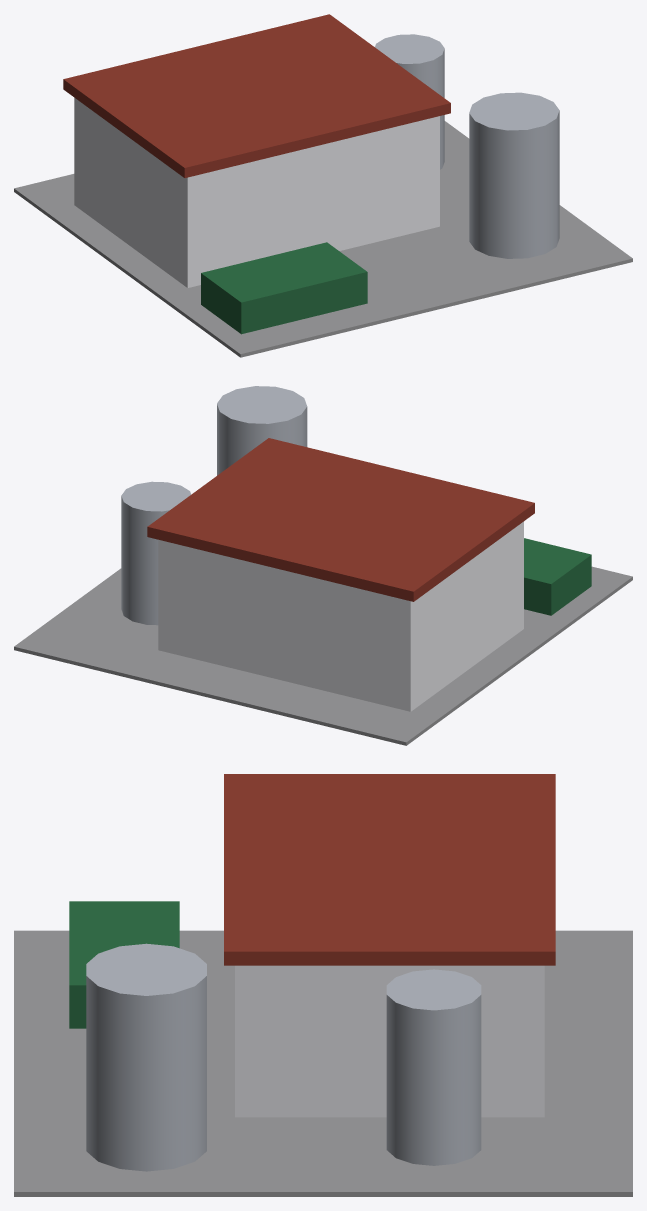
The model's file is food_plant.glb.
The picture shows the model from 3 angles, top to bottom: view 1: azimuth 30°, elevation 25°; view 2: azimuth 150°, elevation 25°; view 3: azimuth 270°, elevation 25°; orthographic projection. The views are drawn at different scales.
Visible parts, largest first — view 1: Hall, Roof, Pad, Tank1, Dock, Tank2; view 2: Hall, Roof, Pad, Tank2, Tank1, Dock; view 3: Pad, Roof, Hall, Tank1, Tank2, Dock.
Part boxes in pixels (x1=…): Hall: x1=74, y1=98, x2=439, y2=287; Roof: x1=63, y1=14, x2=450, y2=177; Pad: x1=14, y1=121, x2=632, y2=357; Tank1: x1=469, y1=92, x2=559, y2=258; Dock: x1=201, y1=242, x2=367, y2=334; Tank2: x1=375, y1=34, x2=444, y2=169; Hall: x1=158, y1=521, x2=523, y2=711; Roof: x1=147, y1=438, x2=534, y2=601; Pad: x1=14, y1=566, x2=632, y2=745; Tank2: x1=121, y1=481, x2=190, y2=625; Tank1: x1=217, y1=386, x2=307, y2=475; Dock: x1=524, y1=538, x2=591, y2=615; Pad: x1=14, y1=930, x2=632, y2=1196; Roof: x1=224, y1=774, x2=555, y2=965; Hall: x1=235, y1=965, x2=544, y2=1117; Tank1: x1=86, y1=943, x2=206, y2=1171; Tank2: x1=386, y1=969, x2=481, y2=1165; Dock: x1=69, y1=901, x2=179, y2=1028.
Size of the model in its own units: 2.8 by 0.9 by 2.8.
